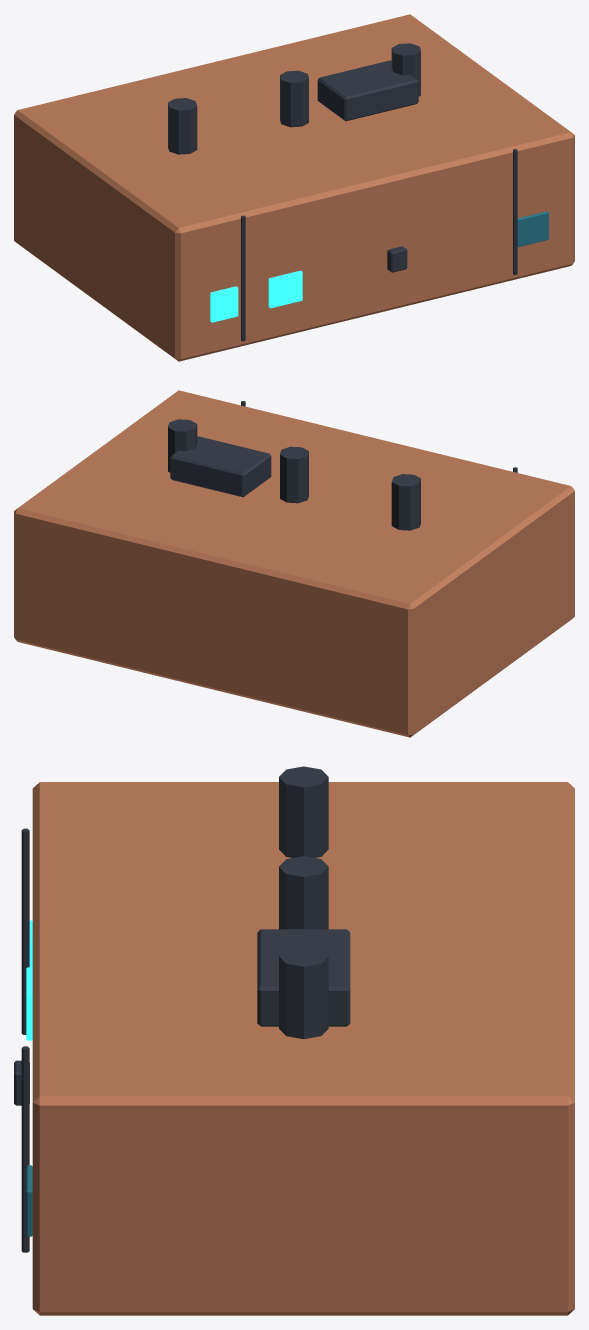
File: building_022_seed11.glb
3 renders of one model, top to bottom at view 1: azimuth 30°, elevation 25°; view 2: azimuth 150°, elevation 25°; view 3: azimuth 270°, elevation 25°, orthographic. The views are drawn at different scales.
Visible parts, largest first — view 1: building_022_seed11; view 2: building_022_seed11; view 3: building_022_seed11.
Boxes of the visible parts, x1,y1,x2,y2 form: building_022_seed11: [14, 14, 574, 361]; building_022_seed11: [14, 390, 574, 737]; building_022_seed11: [14, 766, 574, 1315].
Size of the model in its own units: 8.52 by 3.62 by 6.31.
